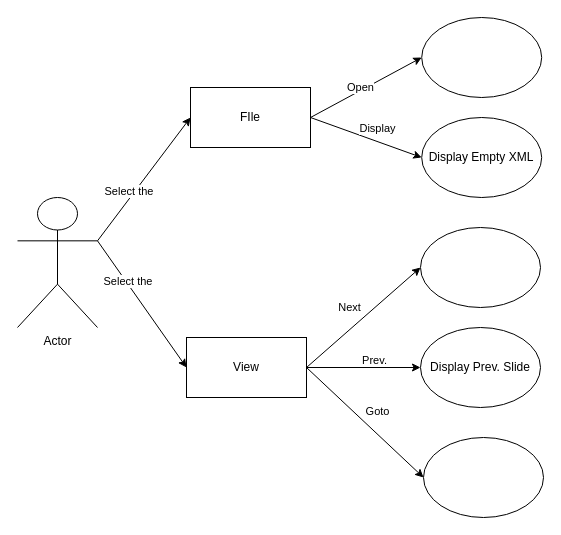
This 561x535 diagram has some shape labels left out. The centre of each missing label's shape, as x and y in pixels:
"Display Loaded XML" goes at (x=481, y=57).
"Display Next Slide" goes at (x=480, y=267).
"Goto Any Slide No." goes at (x=483, y=477).
